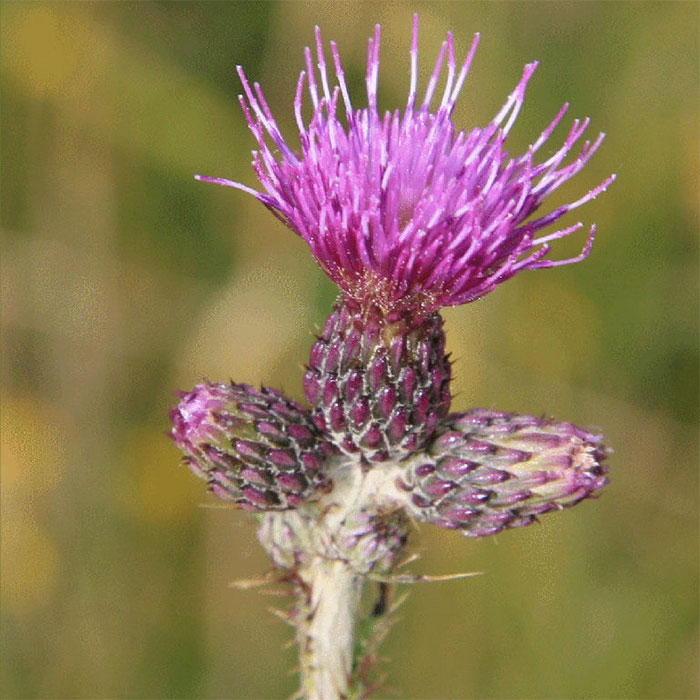thistle: (228, 23, 599, 460)
